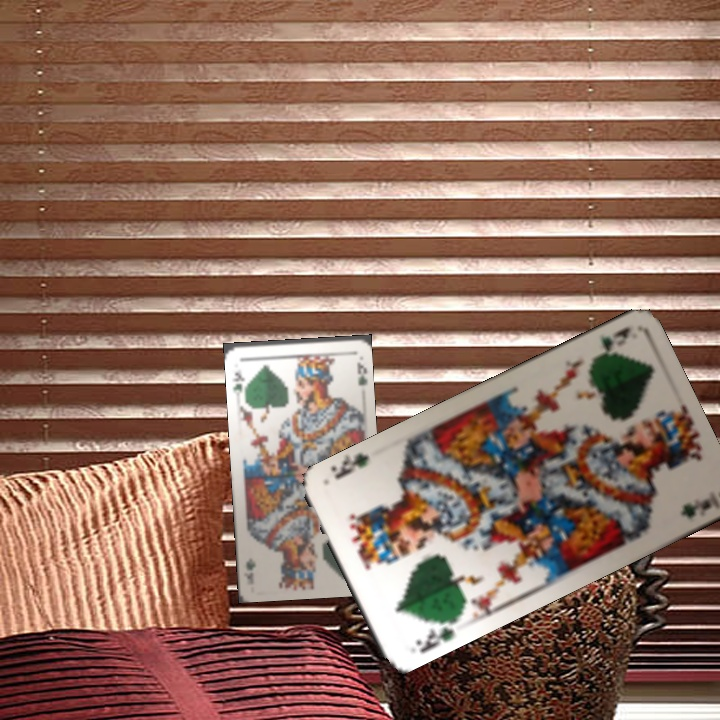GK: (585, 322, 633, 367), (411, 617, 457, 656), (229, 368, 247, 397)
